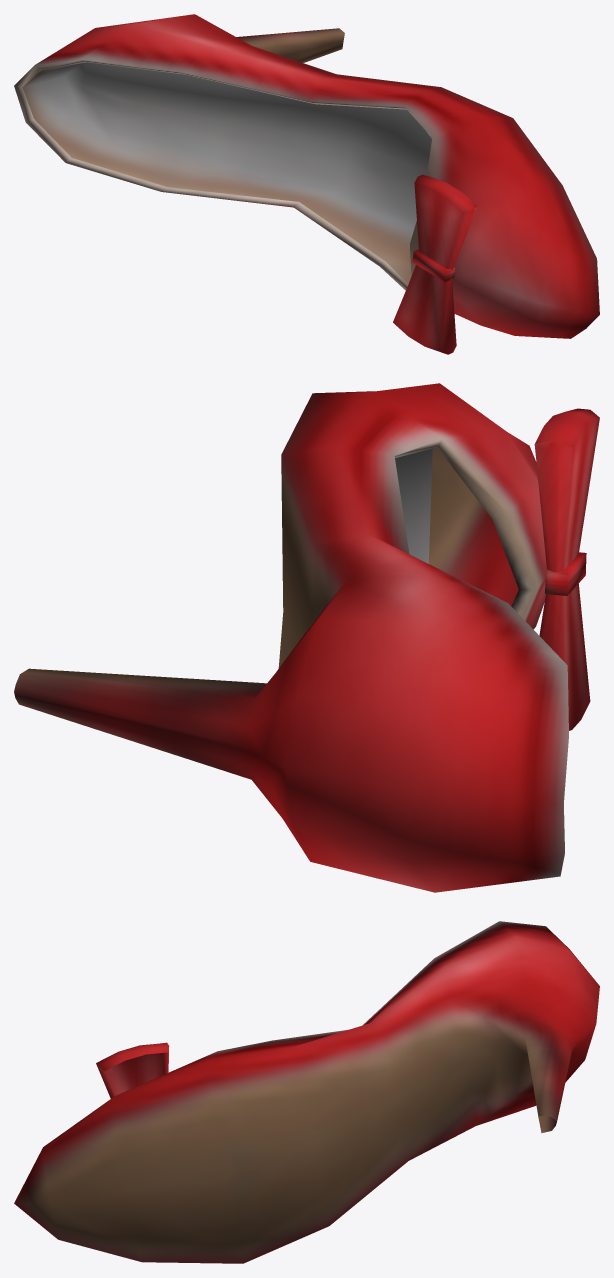
The model's file is PiErSenGongYu_01_gaogenxiei_01.FBX.
3 renders of one model, top to bottom at view 1: azimuth 30°, elevation 25°; view 2: azimuth 150°, elevation 25°; view 3: azimuth 270°, elevation 25°, orthographic. The views are drawn at different scales.
Visible parts, largest first — view 1: PiErSenDeGongYu_gaogenxiei_01; view 2: PiErSenDeGongYu_gaogenxiei_01; view 3: PiErSenDeGongYu_gaogenxiei_01.
Boxes of the visible parts, x1=… form: PiErSenDeGongYu_gaogenxiei_01: x1=14, y1=14, x2=599, y2=354; PiErSenDeGongYu_gaogenxiei_01: x1=14, y1=383, x2=599, y2=892; PiErSenDeGongYu_gaogenxiei_01: x1=14, y1=921, x2=599, y2=1263.
Bounding box in the file's own units: 83.95 × 55.68 × 131.
